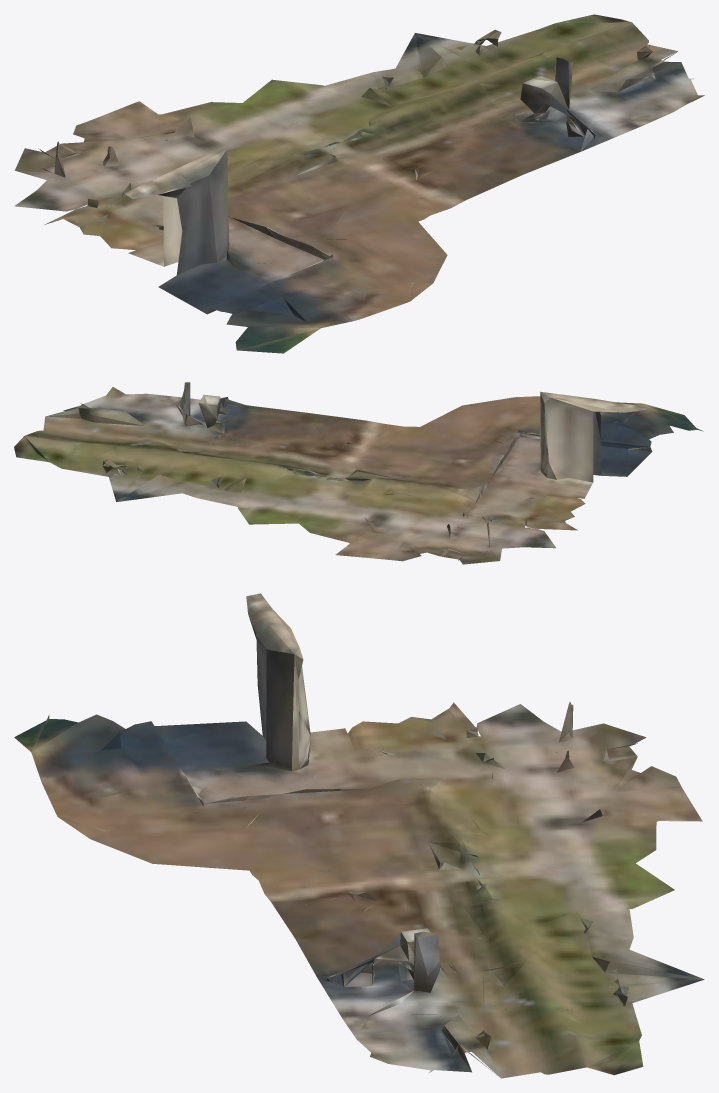
File: Tile_007_011_L15.gltf
3 views of the same model, one above another, from view 1: azimuth 30°, elevation 25°; view 2: azimuth 150°, elevation 25°; view 3: azimuth 270°, elevation 25° (orthographic). The views are drawn at different scales.
Parts seen in each view (by area): view 1: Tile_+007_+011_L15; view 2: Tile_+007_+011_L15; view 3: Tile_+007_+011_L15.
Boxes of the visible parts, x1,y1,x2,y2 form: Tile_+007_+011_L15: (14, 14, 704, 353); Tile_+007_+011_L15: (14, 382, 703, 564); Tile_+007_+011_L15: (14, 593, 704, 1078).
Bounding box in the file's own units: 232 × 34.35 × 180.
Materials: 1 (1 with a texture image).
